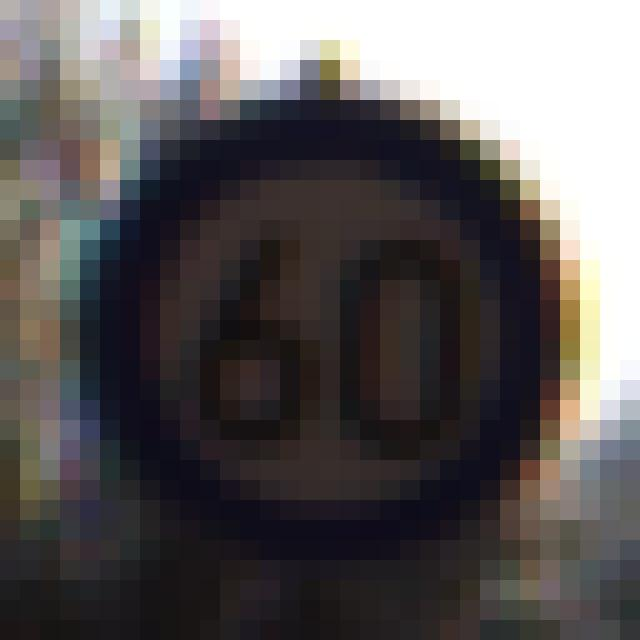SPEED-LIMIT-60: (85, 74, 576, 576)
